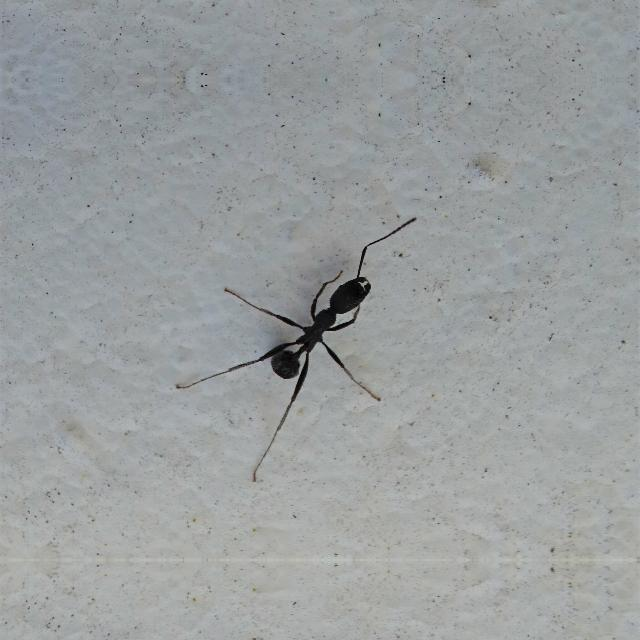Apheanogaster: (227, 252, 395, 408)
